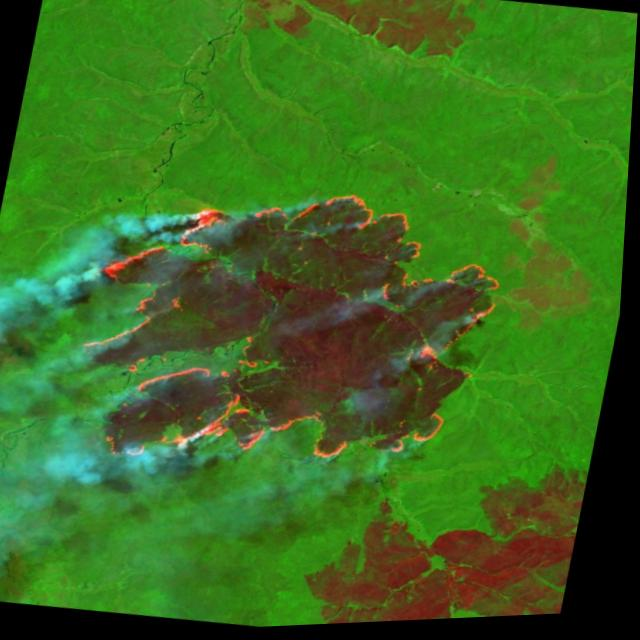fire: (44, 154, 528, 518)
